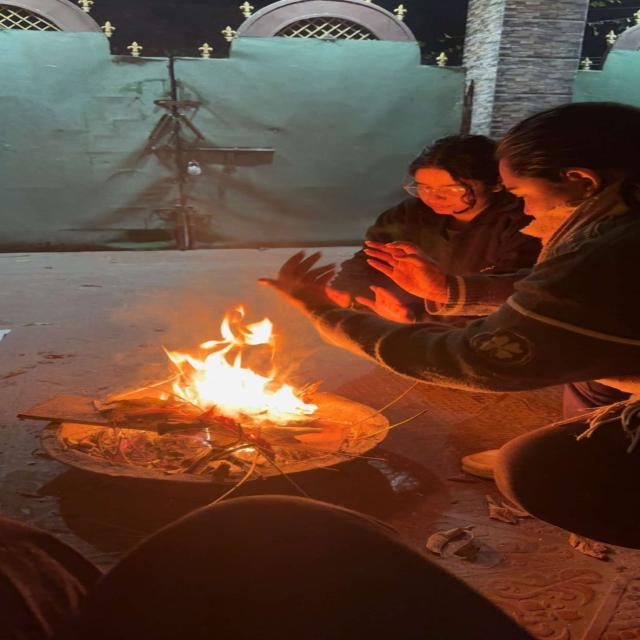fire: (156, 298, 317, 424)
